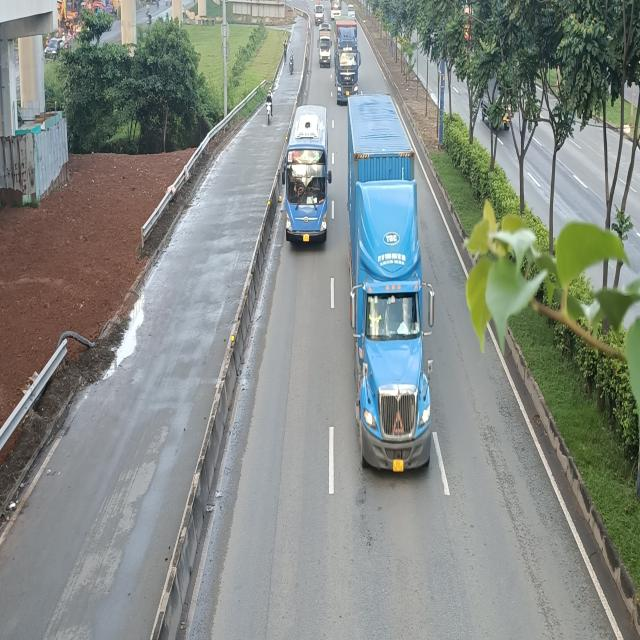coach: (278, 107, 329, 248)
container: (346, 98, 434, 475), (334, 18, 360, 101)
truck: (318, 30, 332, 68)
